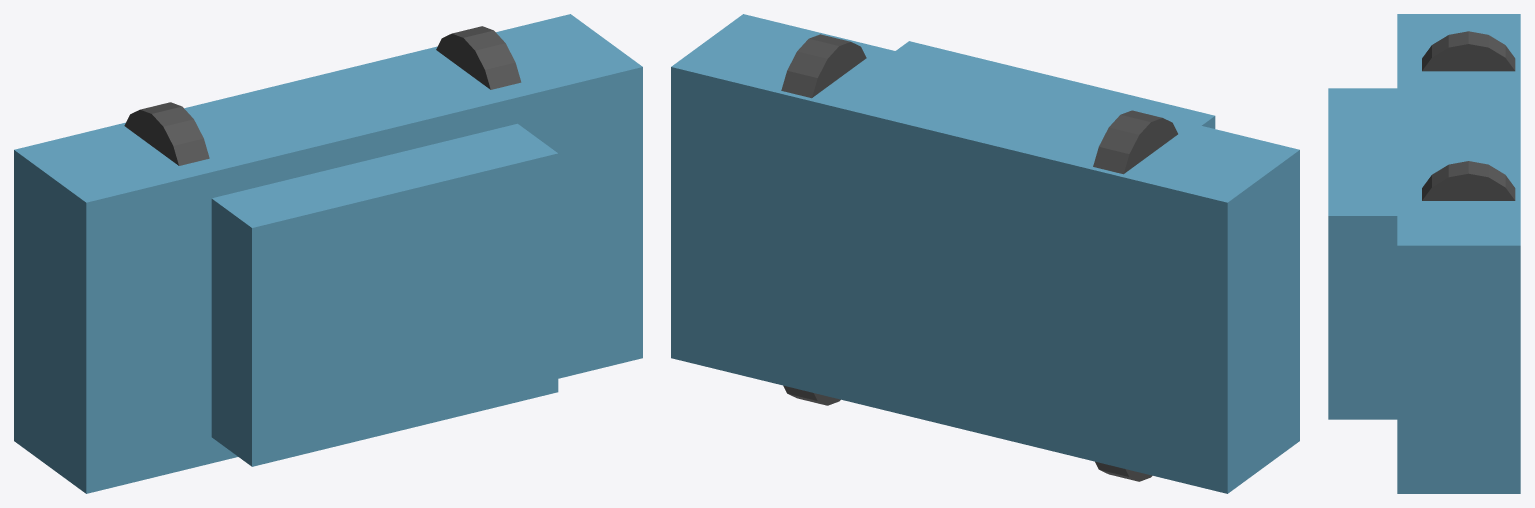
Rendered from vehicle-car.glb.
3 views of the same model, side by side, from view 1: azimuth 30°, elevation 25°; view 2: azimuth 150°, elevation 25°; view 3: azimuth 270°, elevation 25° (orthographic). The views are drawn at different scales.
Visible parts, largest first — view 1: world; view 2: world; view 3: world.
Part boxes in pixels (box(x1,y1,x2,y2)): world: box(14, 14, 642, 493); world: box(671, 14, 1299, 493); world: box(1328, 14, 1520, 493).
Bounding box in the file's own units: 4 × 2.44 × 1.4.
